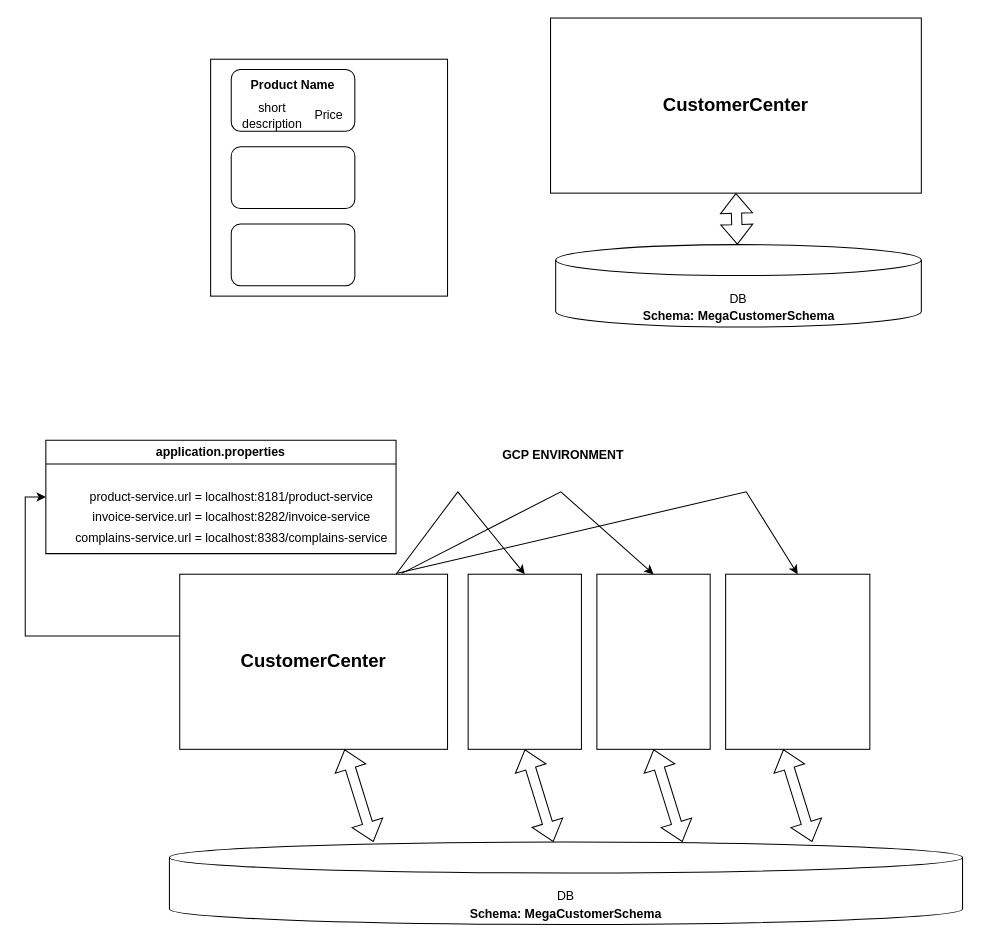
Image size: 981x942. Some labels were removed from this diagram. Here are the shapes that lost their labels. From the top down, the centre of each, then its label:
(524,661): product-service
(653,661): invoice-service
(797,661): complains-service
